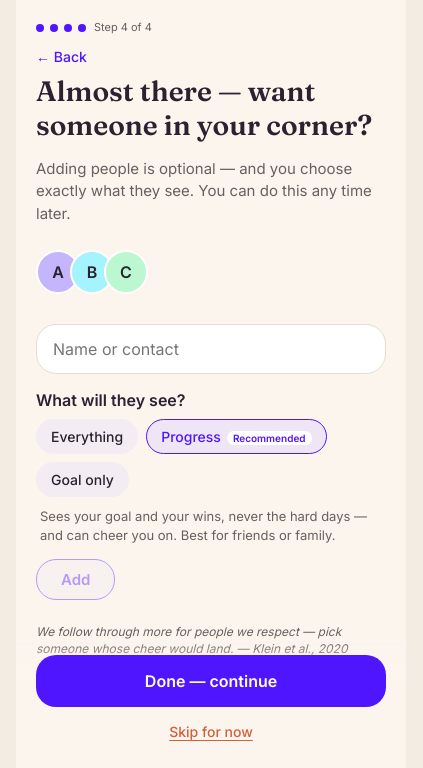
Test case: selecting a different role chip updates the visibility description
The image size is (423, 768).
Step 1. Click the button "Everything" → [87, 437], box [36, 420, 138, 454]
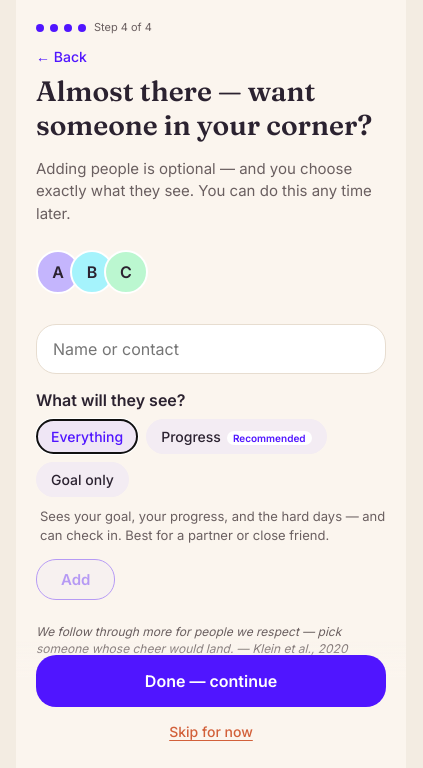
Now the text "partner or close friend" is shown, box [40, 508, 385, 543]
